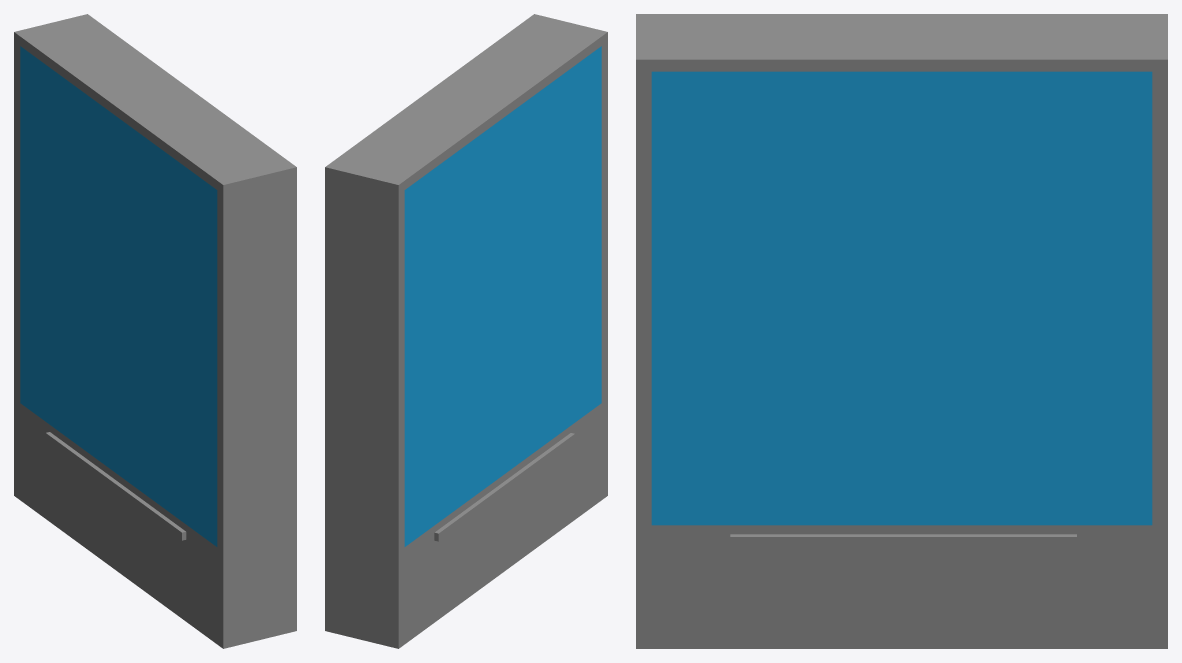
The model's file is advertstand.fbx.
3 renders of one model, left to right at view 1: azimuth 30°, elevation 25°; view 2: azimuth 150°, elevation 25°; view 3: azimuth 270°, elevation 25°, orthographic. The views are drawn at different scales.
Visible parts, largest first — view 1: advertstand; view 2: advertstand; view 3: advertstand.
Boxes of the visible parts, box(x1,y1,x2,y2) form: advertstand: box(14, 14, 296, 648); advertstand: box(325, 14, 607, 648); advertstand: box(636, 14, 1167, 648).
Bounding box in the file's own units: 0.5427 × 2.94 × 2.4.
Materials: 2 (1 with a texture image).
